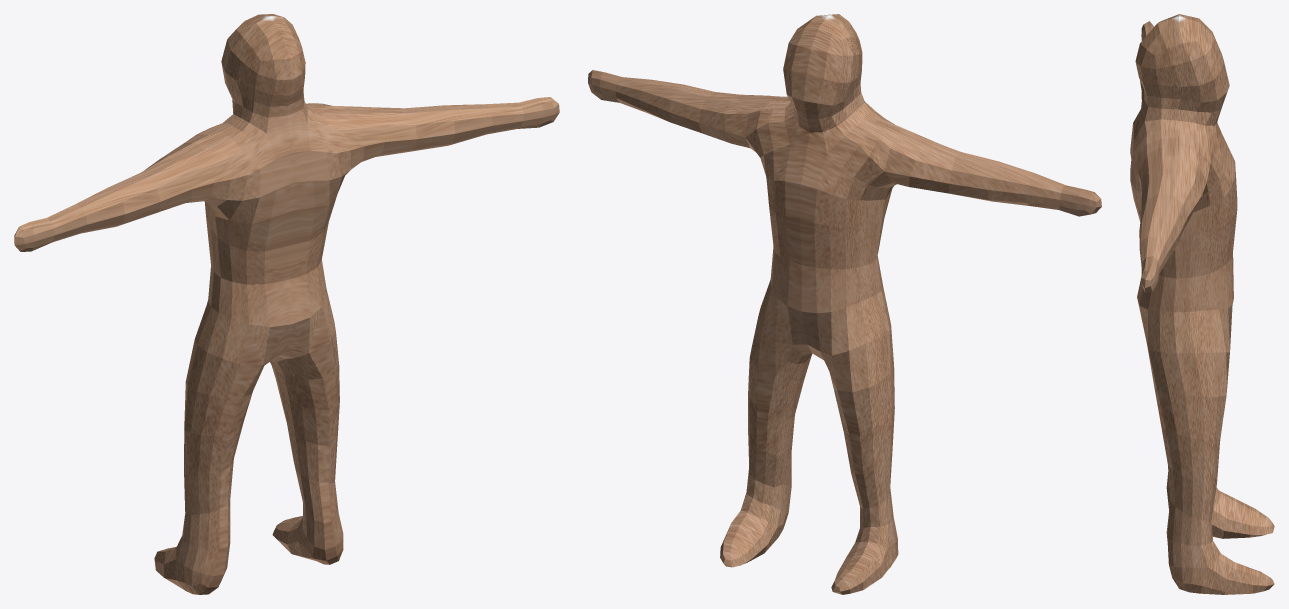
The model's file is victest.obj.
3 renders of one model, left to right at view 1: azimuth 30°, elevation 25°; view 2: azimuth 150°, elevation 25°; view 3: azimuth 270°, elevation 25°, orthographic. The views are drawn at different scales.
Parts seen in each view (by area): view 1: victortest:Group1; view 2: victortest:Group1; view 3: victortest:Group1.
Part boxes in pixels (left/top/right/bottom): victortest:Group1: left=14, top=14, right=559, bottom=594; victortest:Group1: left=588, top=14, right=1101, bottom=594; victortest:Group1: left=1130, top=14, right=1274, bottom=594.
Bounding box in the file's own units: 19.13 × 19.02 × 4.57.
Materials: 1 (1 with a texture image).
